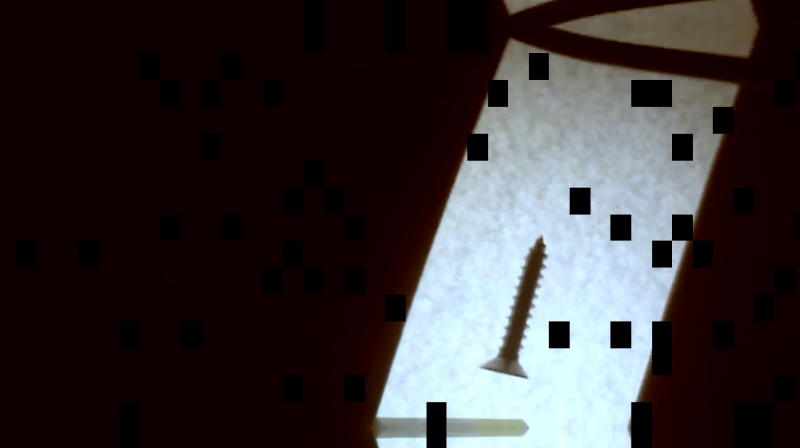S001: (476, 233, 551, 383)
